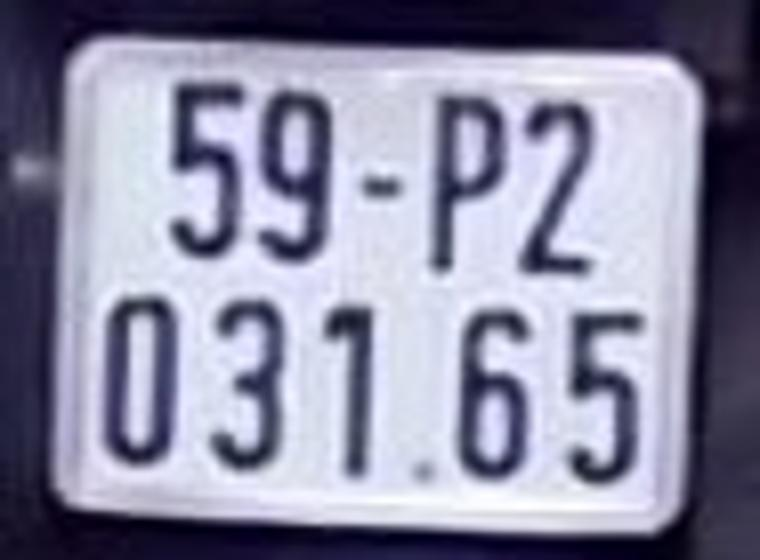-: (359, 171, 413, 204)
.: (404, 445, 445, 490)
0: (102, 300, 191, 470)
1: (314, 296, 387, 480)
2: (521, 98, 596, 282)
3: (204, 296, 298, 478)
5: (154, 68, 248, 263), (563, 305, 643, 484)
6: (456, 301, 534, 486)
9: (258, 87, 347, 264)
P: (432, 87, 506, 277)
